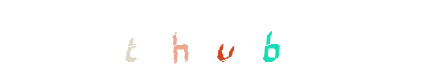B: (230, 0, 310, 80)
H: (174, 0, 254, 80)
T: (144, 0, 224, 80)
V: (184, 0, 264, 80)
